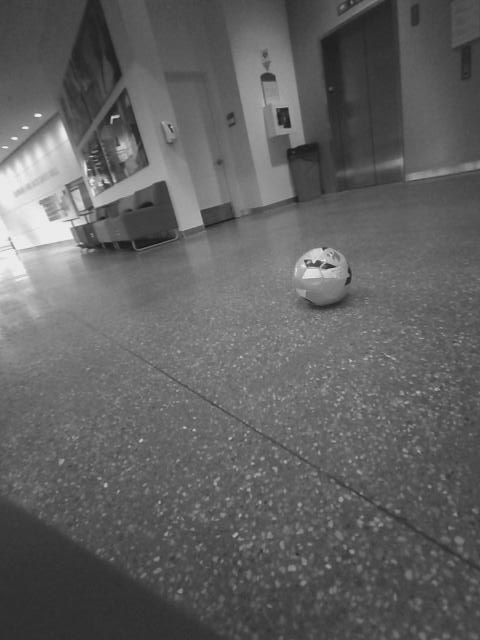ball: (289, 239, 356, 308)
